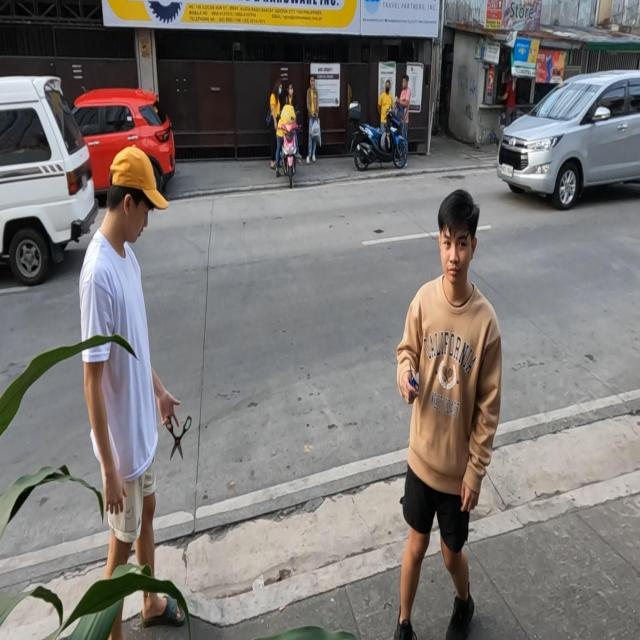scissor: (164, 414, 192, 462)
